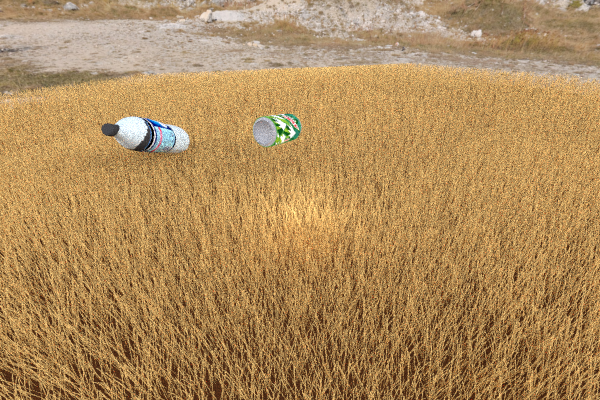bottle: (101, 116, 189, 153)
can: (274, 179, 385, 259), (252, 113, 301, 147)
